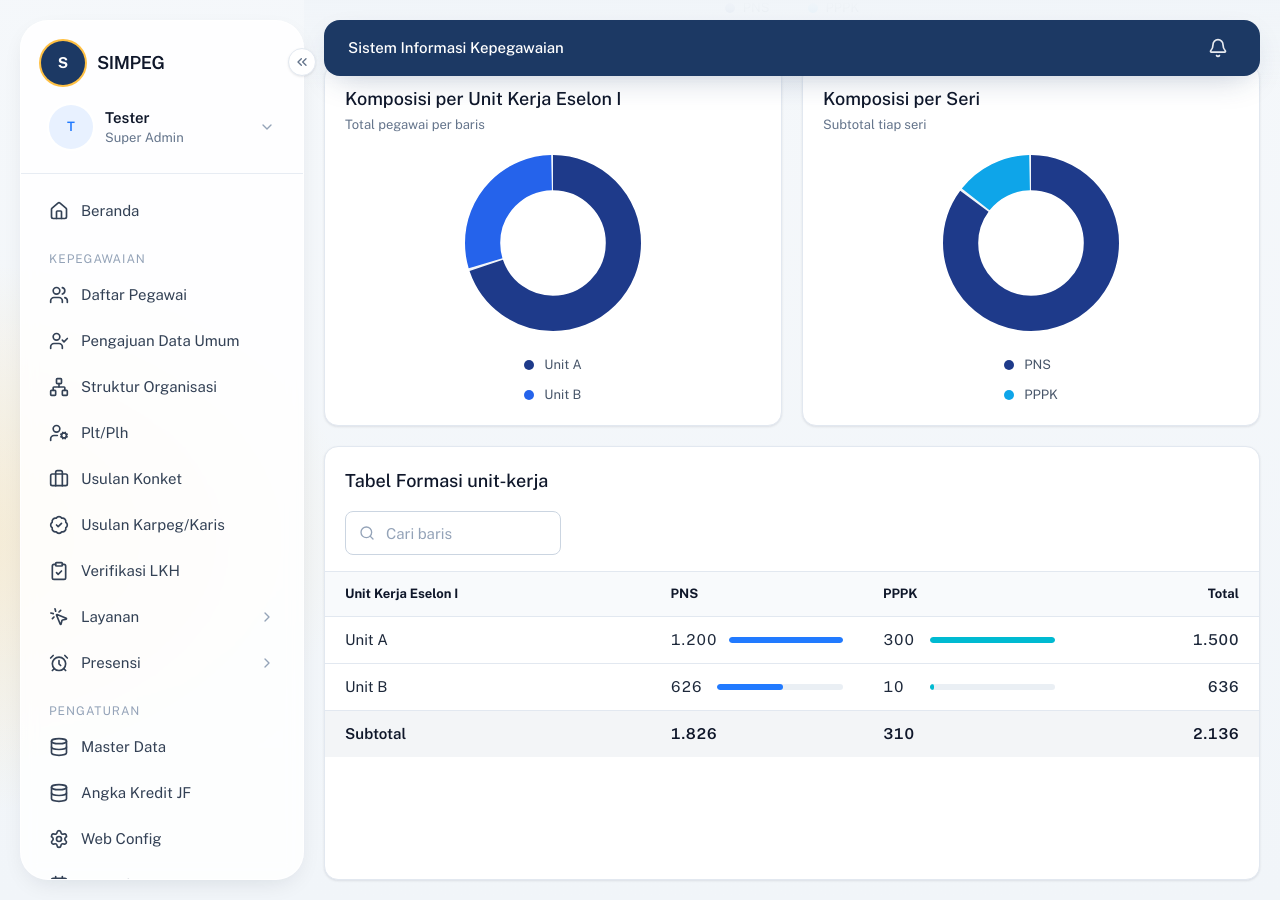
LaporanPage › CR-064 T11: baris Subtotal mengikuti pencarian (dijumlah dari baris tampil, berlabel); total keseluruhan lingkup tetap dari server
This screenshot has width=1280, height=900.
(page scrolled)
Step 1. Type "Unit B" into the search field with placeholder "Cari baris" → (453, 533), box 345,511 -> 561,555
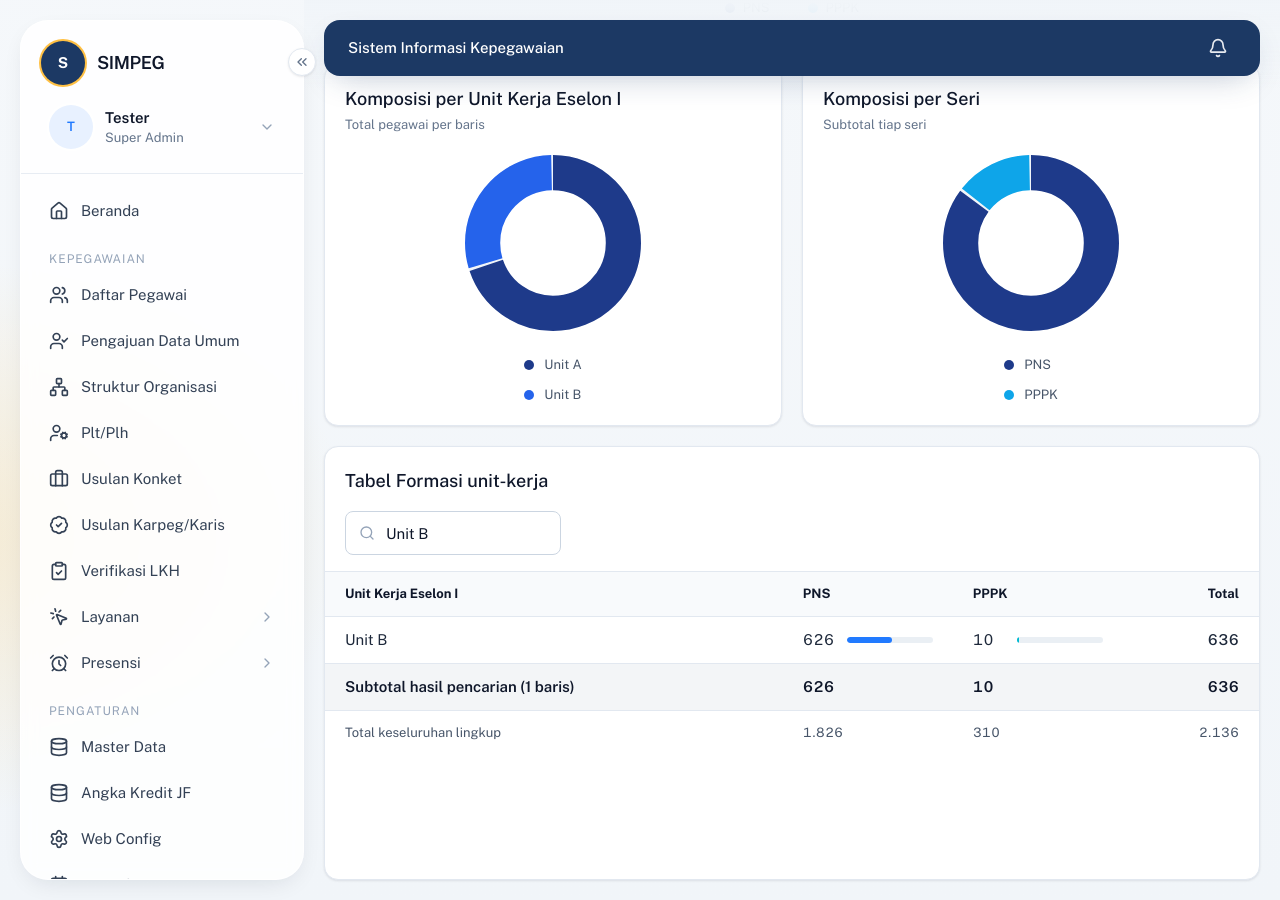
expect the row with test id "laporan-subtotal" shows "Subtotal hasil pencarian (1 baris)": met, box 345,678 -> 574,695
expect the row with test id "laporan-subtotal" shows "626": met, box 803,678 -> 834,695
expect the row with test id "laporan-subtotal" shows "636": met, box 1208,678 -> 1239,695
Step 2. Replace the text in the search field with "zzz" → (453, 533), box 345,511 -> 561,555
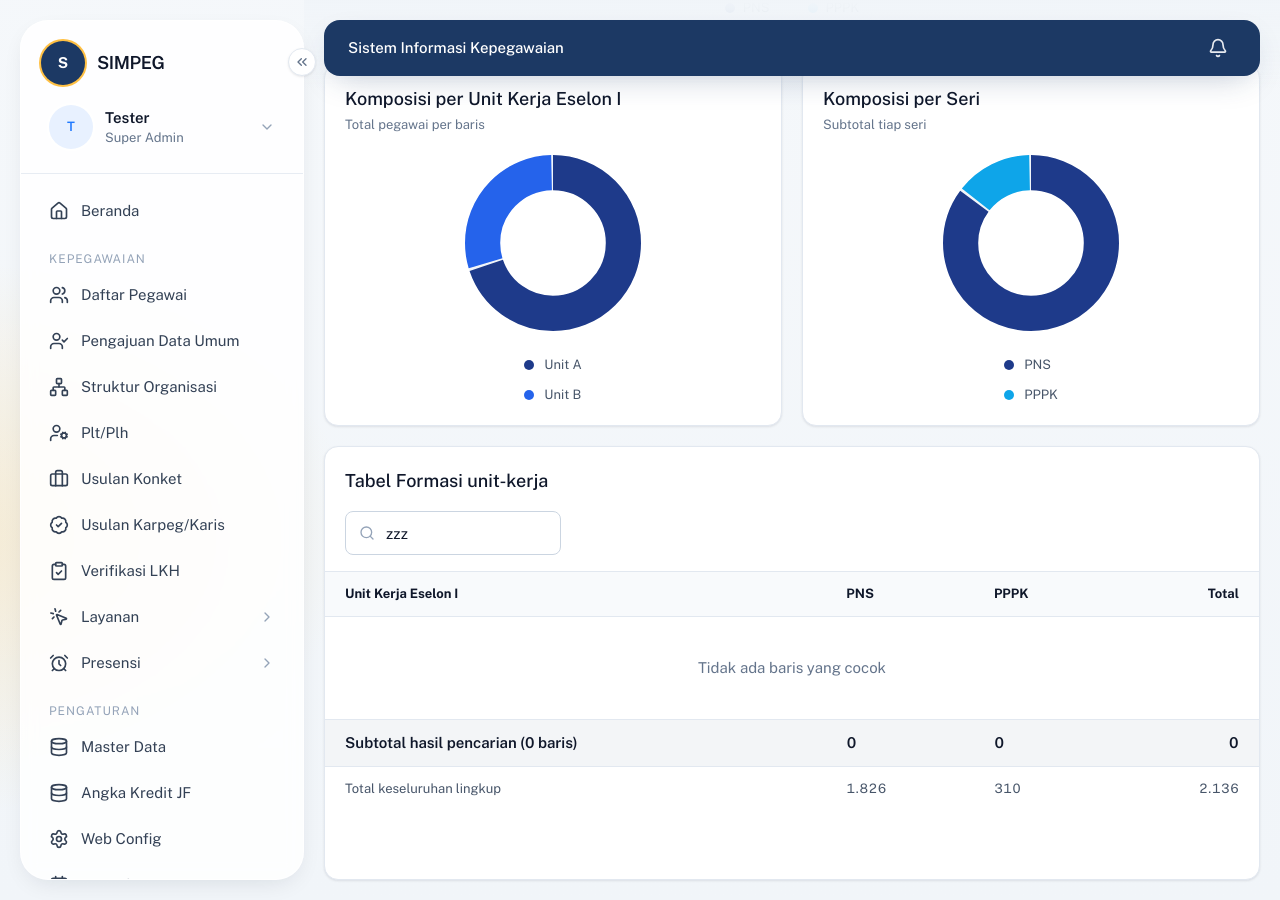
expect the element with test id "laporan-subtotal" does not show "1.826": met
expect the row with test id "laporan-subtotal" shows "Subtotal hasil pencarian (0 baris)": met, box 345,734 -> 578,751
Step 3. Clear the search field → (453, 533), box 345,511 -> 561,555
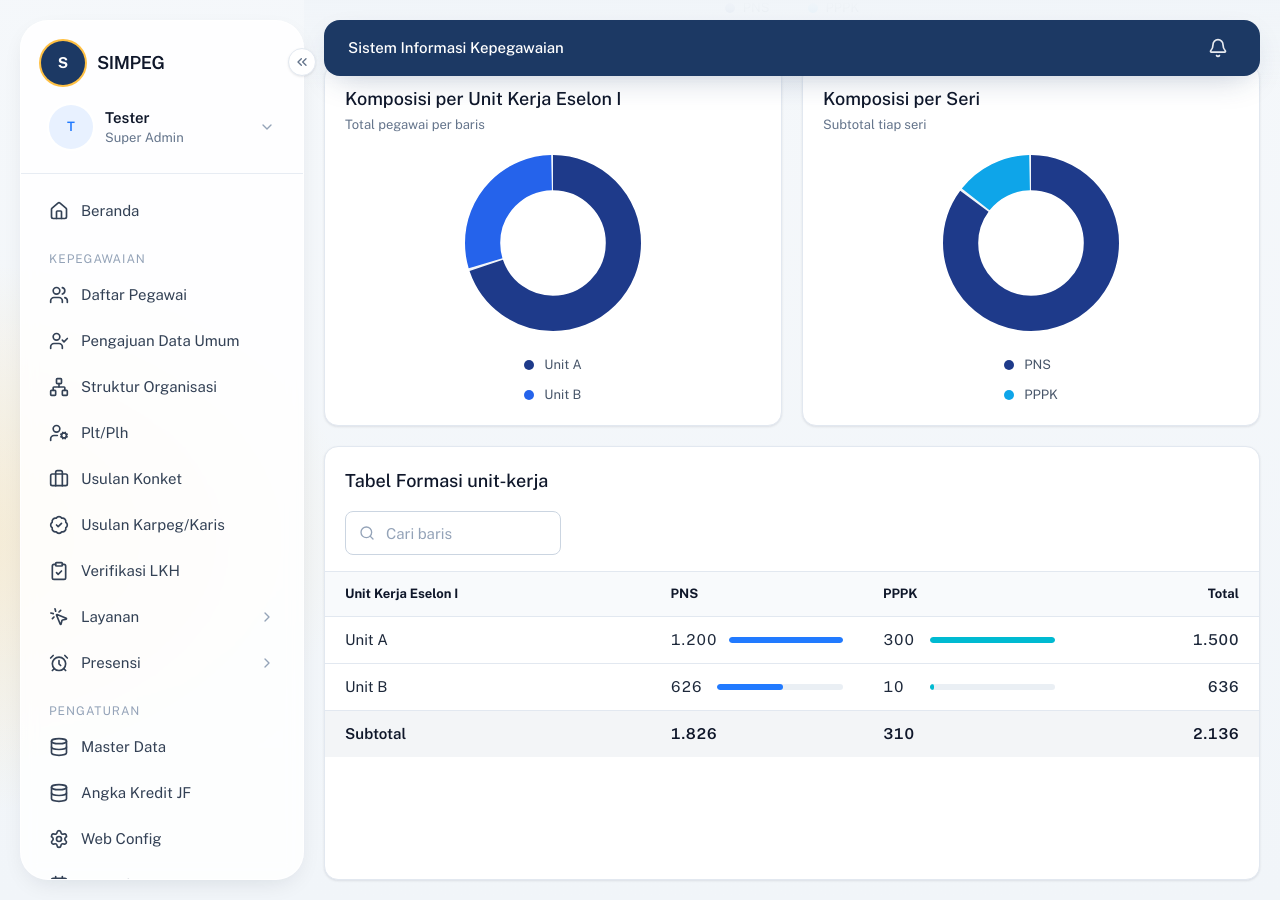
expect the row with test id "laporan-subtotal" shows "1.826": met, box 670,725 -> 717,742
